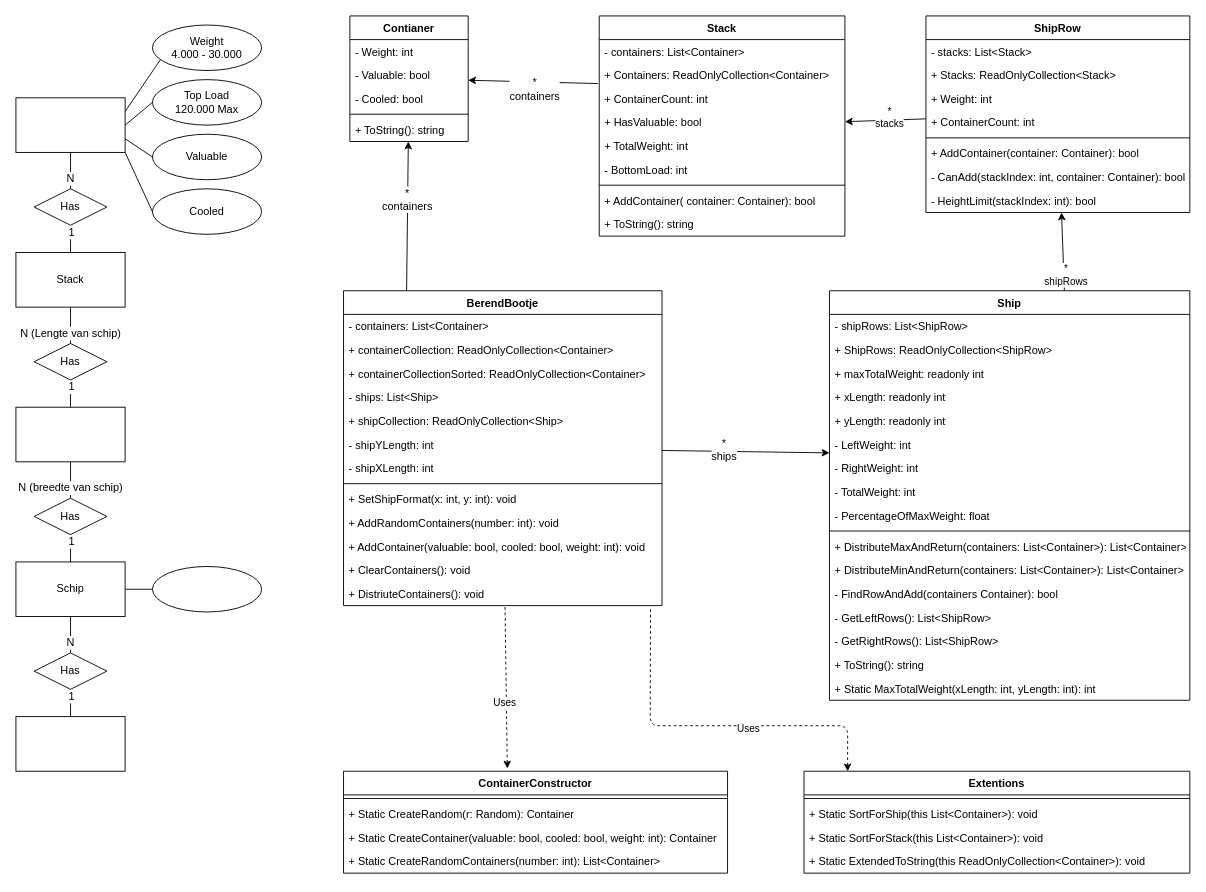
The diagram is 1206 pixels wide and 892 high, and some of its shapes have lost their labels. Here are the shapes that lost their labels. From the top down, the centre of each, then its label:
the point at 70,124: Container
the point at 70,434: Schip Rij
the point at 207,589: Format
the point at 70,743: Berend Bootje
